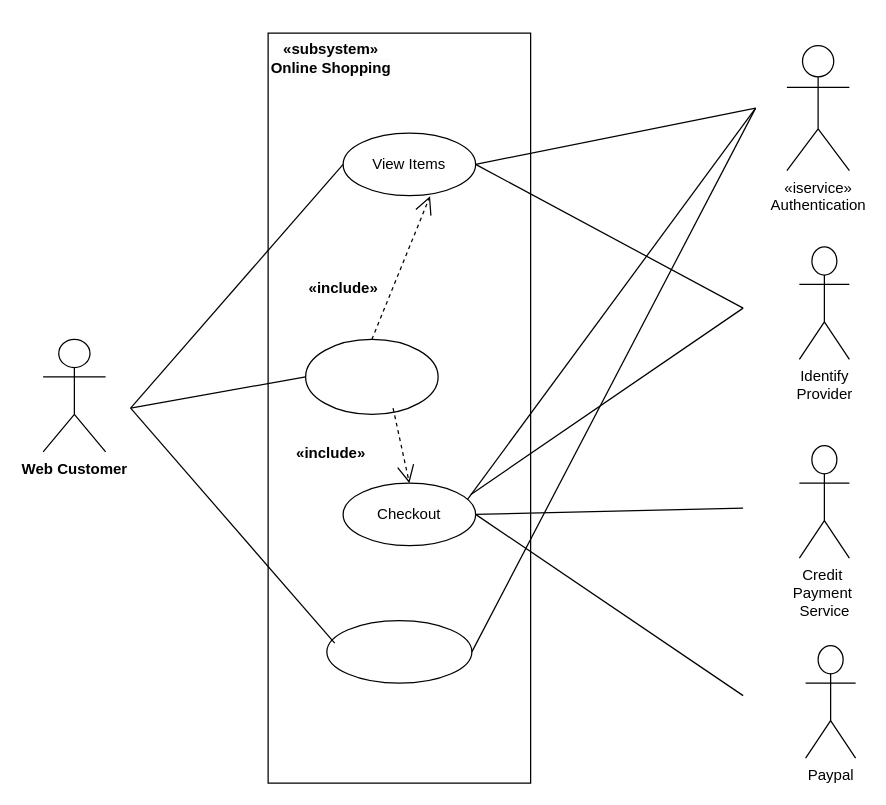
Image size: 886x805. Some labels were removed from this diagram. The centre of each missing label's shape, as x and y in pixels:
Client Register: (399,651)
Make Purchase: (371,376)
